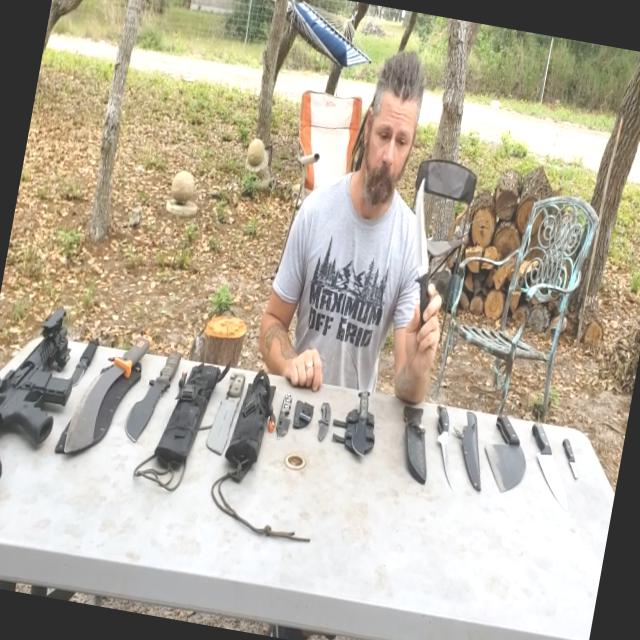knife: (59, 316, 156, 464), (388, 169, 460, 333), (472, 391, 542, 506), (193, 352, 259, 467), (518, 412, 585, 510), (420, 397, 478, 492), (142, 334, 193, 441), (338, 380, 384, 472), (302, 390, 342, 464), (67, 320, 107, 386), (554, 428, 590, 492), (269, 382, 308, 440)
long weapon: (0, 284, 91, 529)
